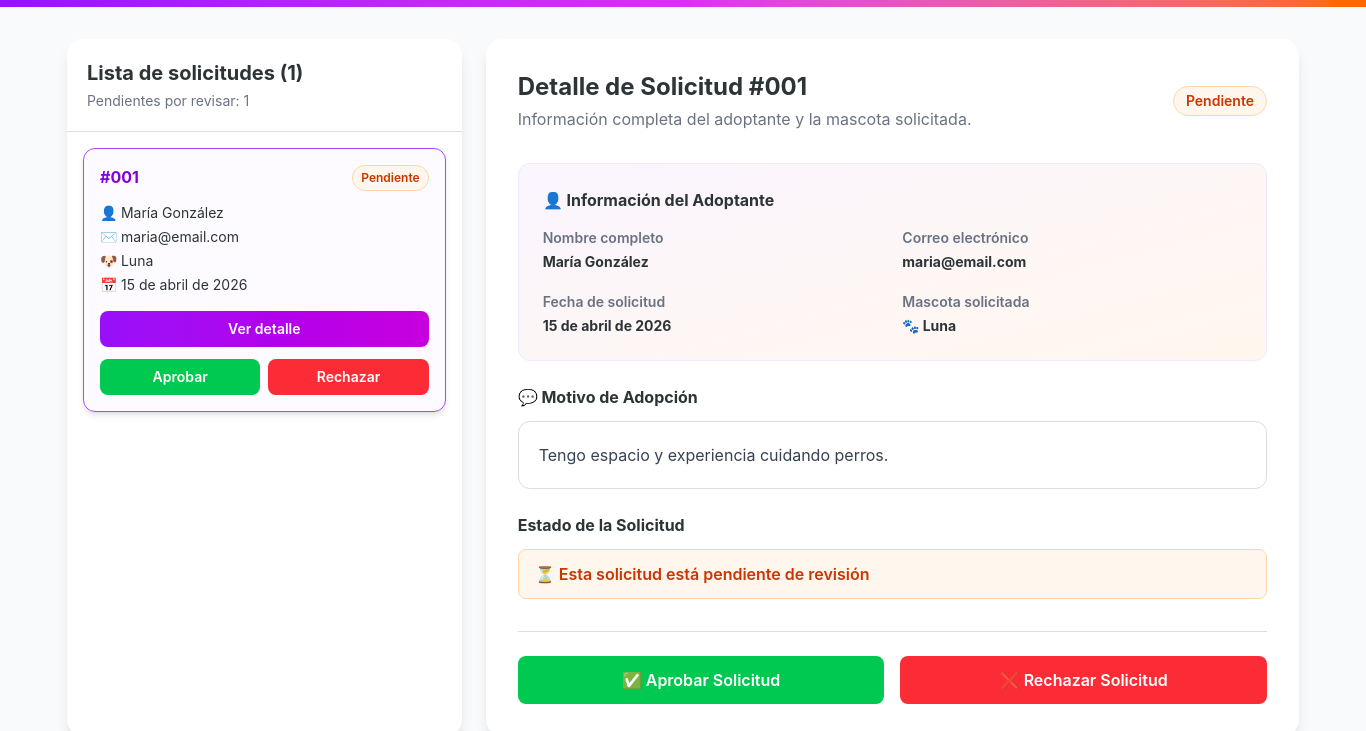
Test case: ManageAdoptionRequestsScreen › approves a pending adoption request
(page scrolled)
Expected: the heading "Detalle de Solicitud #001" is shown, top-left (518, 72), bottom-right (807, 101)
Click the button "✅ Aprobar Solicitud": point(701, 680) top-left (518, 656), bottom-right (884, 704)
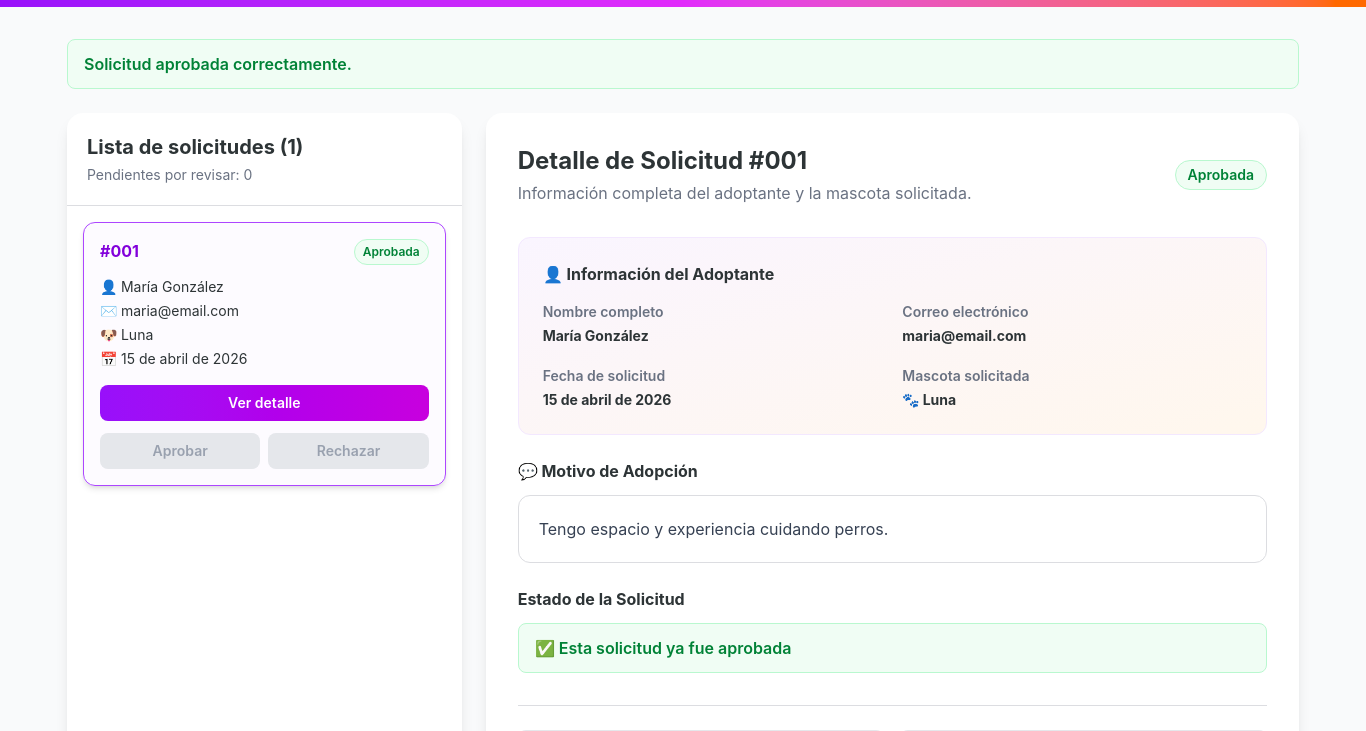
Expected: the text "Solicitud aprobada correctamente." is shown, top-left (67, 39), bottom-right (1299, 89)
